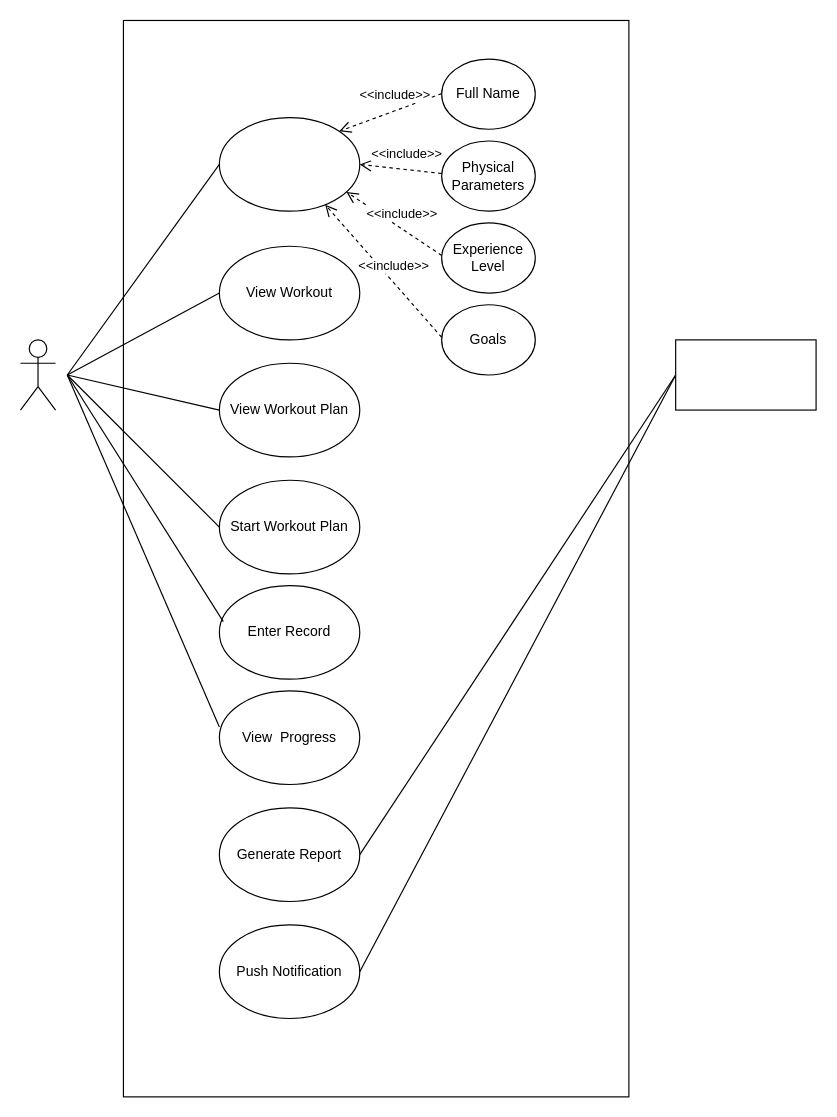
The diagram is 837 pixels wide and 1117 high, and some of its shapes have lost their labels. Each missing label, with the centre of its shape:
Enter Personal Info: the point at 289,163
System: the point at 745,374
User: the point at 37,374
